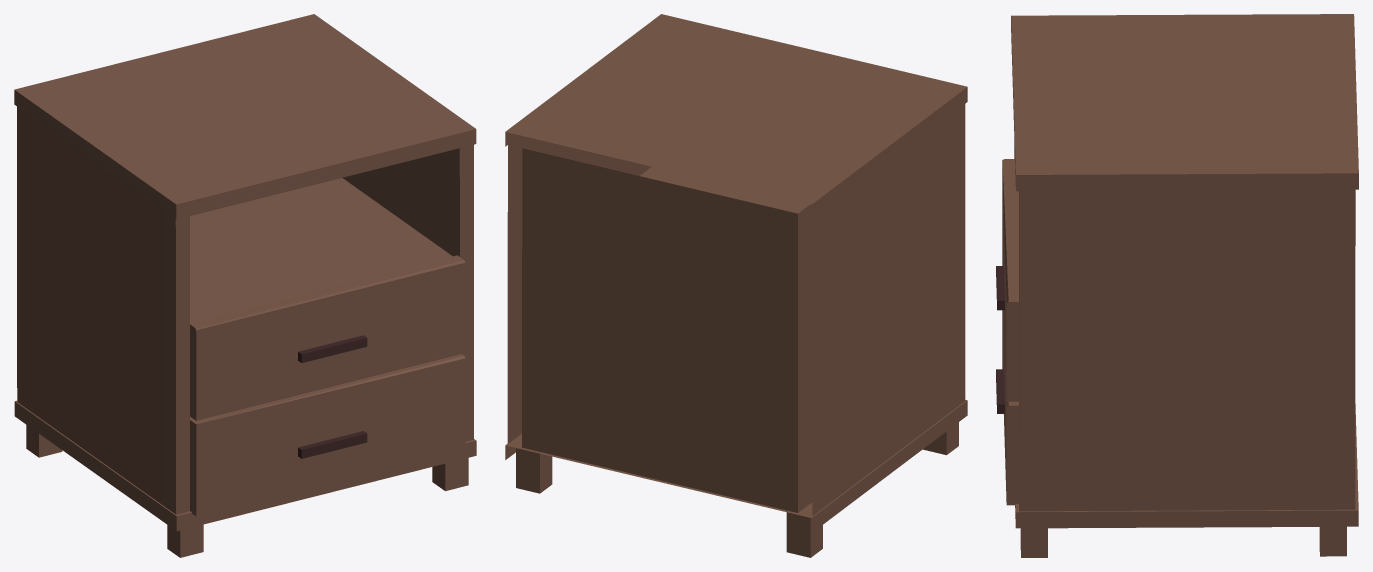
The model's file is SideTable.fbx.
The picture shows the model from 3 angles, left to right: view 1: azimuth 30°, elevation 25°; view 2: azimuth 150°, elevation 25°; view 3: azimuth 270°, elevation 25°; orthographic projection. The views are drawn at different scales.
Parts seen in each view (by area): view 1: SideTable; view 2: SideTable; view 3: SideTable.
Part boxes in pixels (box(x1,y1,x2,y2)): SideTable: box(14, 14, 476, 557); SideTable: box(505, 14, 967, 557); SideTable: box(996, 14, 1358, 557).
Bounding box in the file's own units: 17.78 × 19.82 × 16.89.
